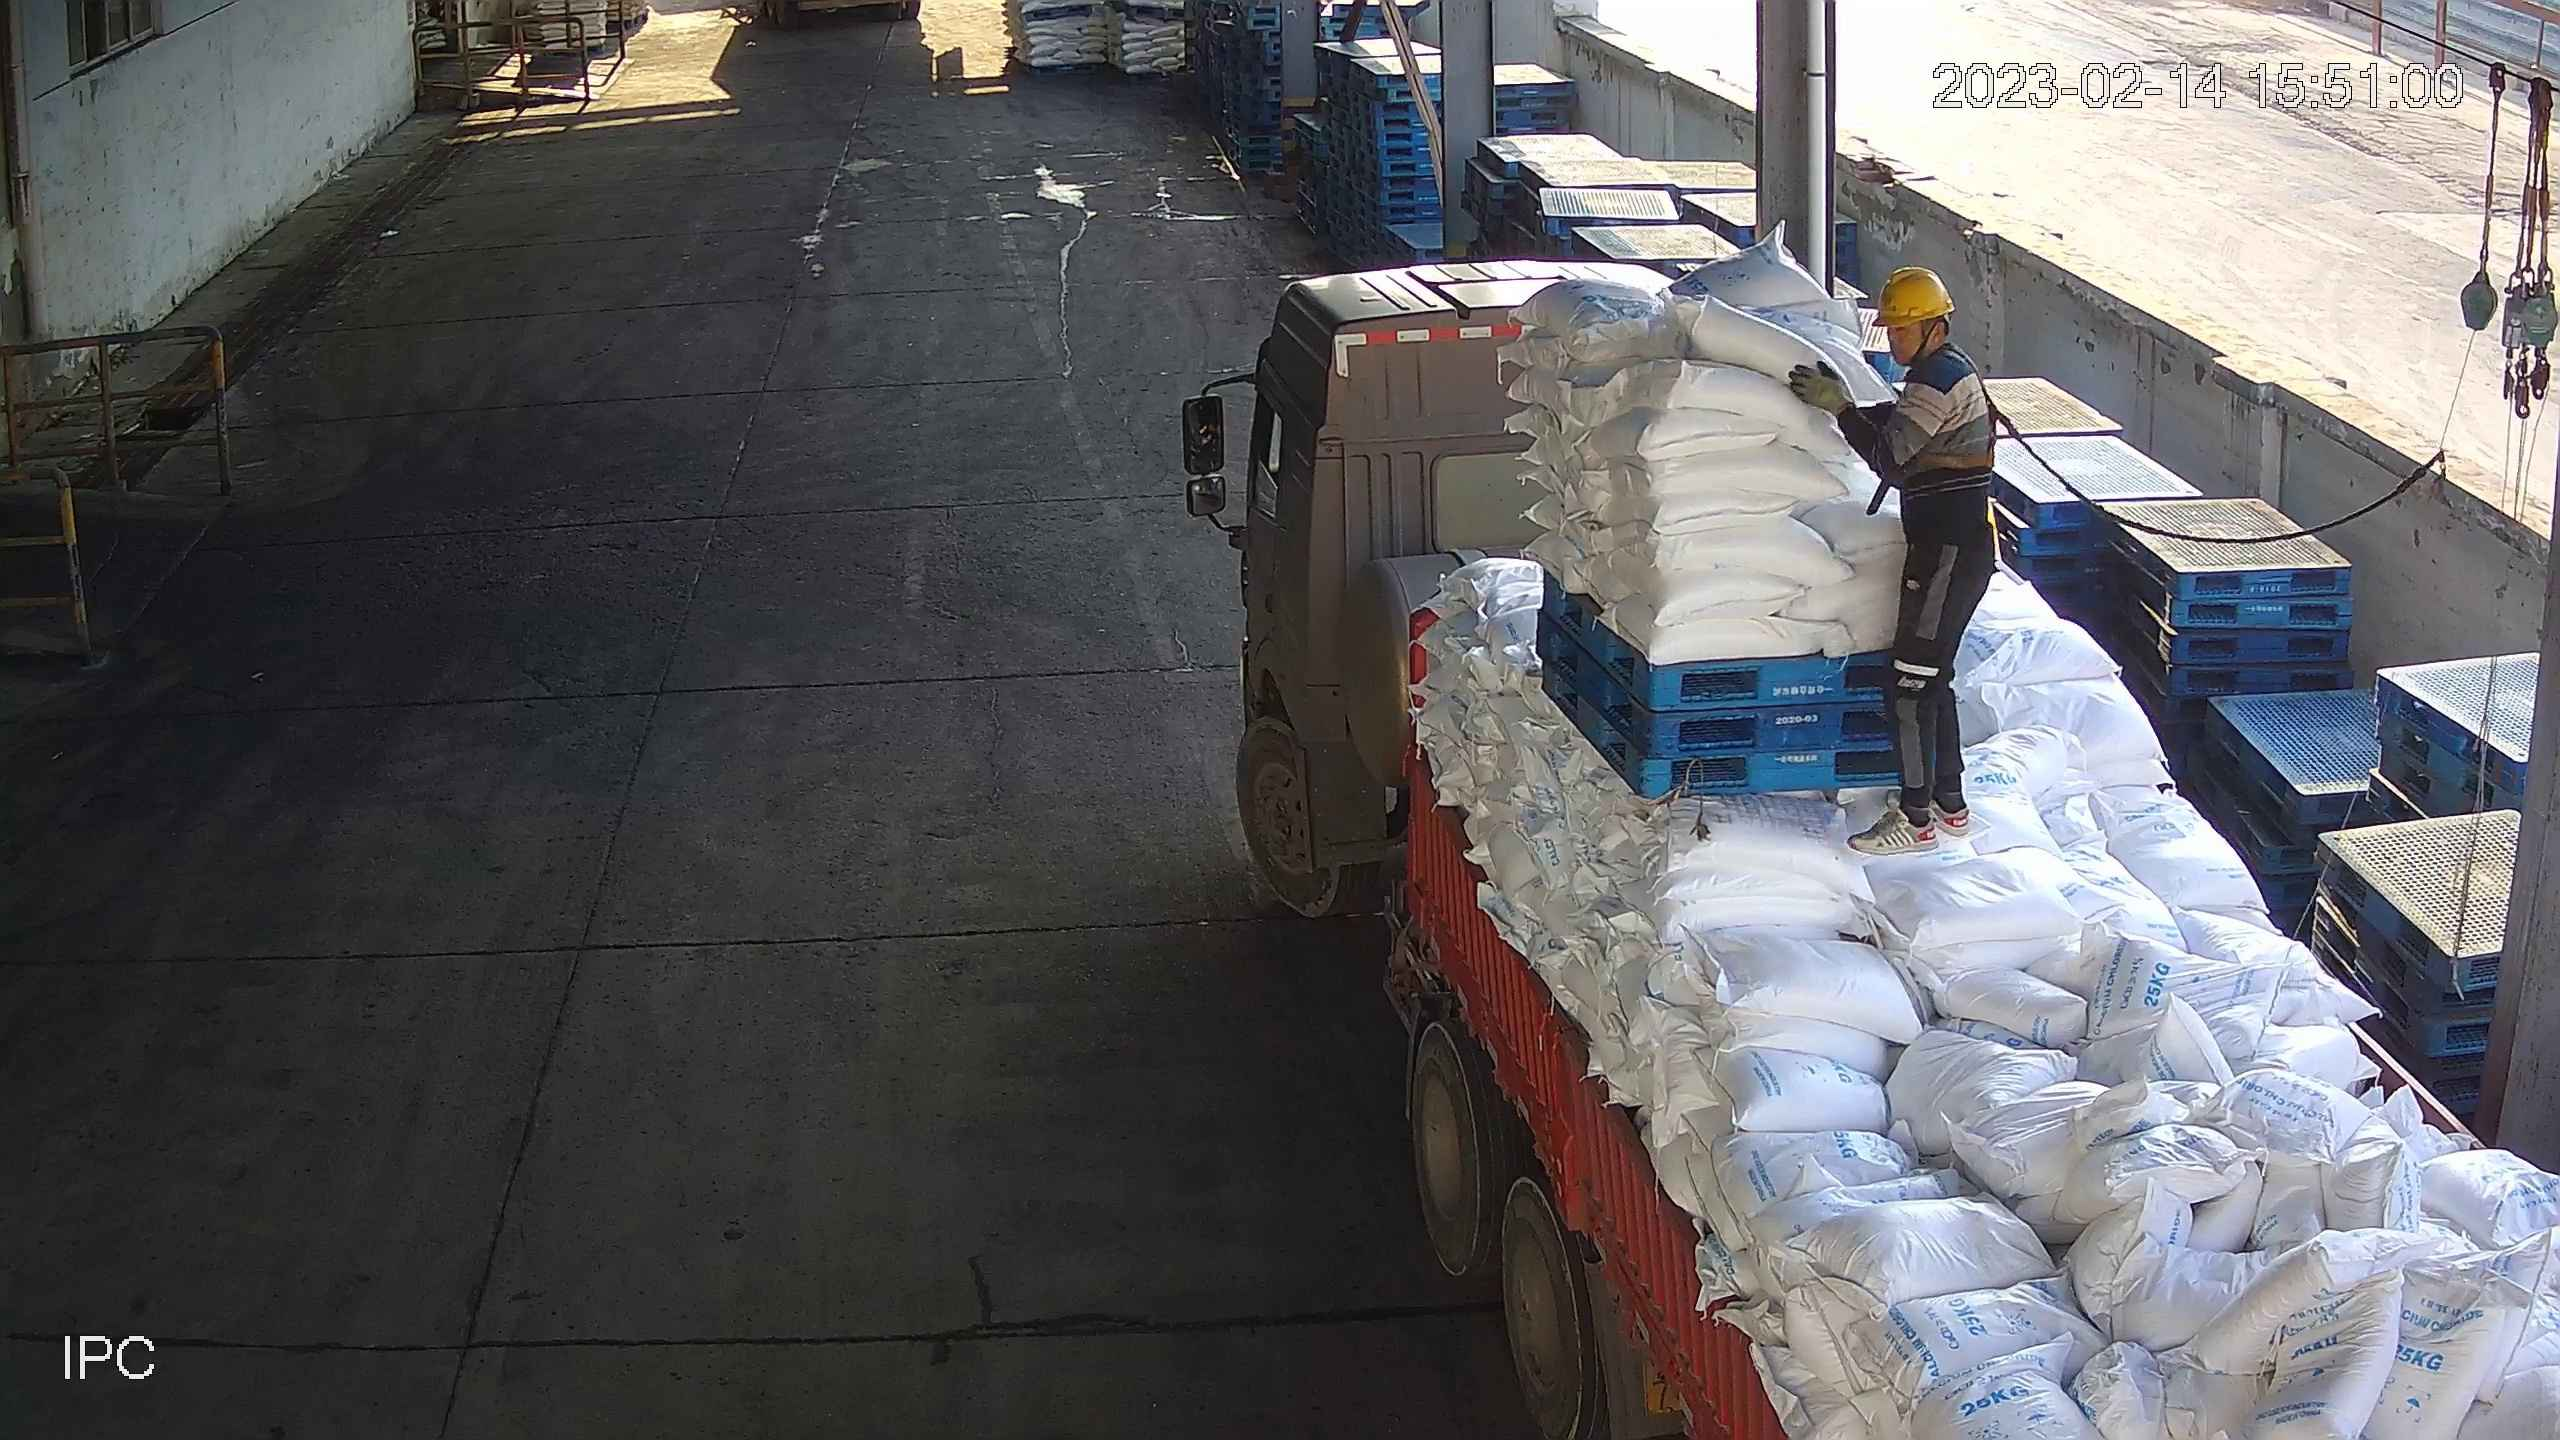belt: (1902, 347, 2011, 474)
head: (1869, 266, 1990, 414)
helmet: (1870, 265, 1957, 327)
people: (1787, 265, 2007, 857)
truck: (1234, 255, 2560, 1440)
